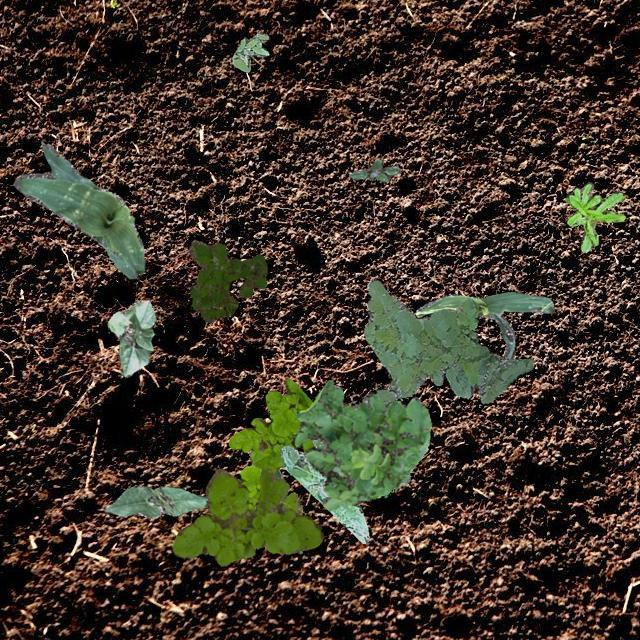crop: (13, 142, 144, 278), (414, 291, 554, 358), (106, 298, 154, 376), (104, 484, 208, 518), (272, 468, 282, 478)
weed: (362, 280, 532, 404), (290, 378, 430, 509), (172, 468, 322, 564), (278, 438, 409, 542), (228, 376, 314, 514), (188, 238, 266, 320), (564, 182, 624, 252), (230, 32, 268, 72), (348, 158, 399, 182)
